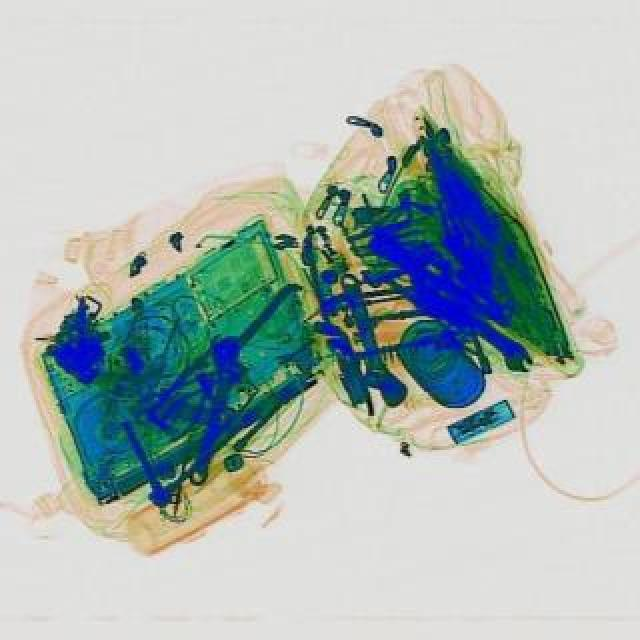scissors: (170, 330, 258, 490), (324, 266, 408, 412), (462, 310, 540, 378), (130, 390, 242, 432)
wrench: (144, 364, 228, 444)
